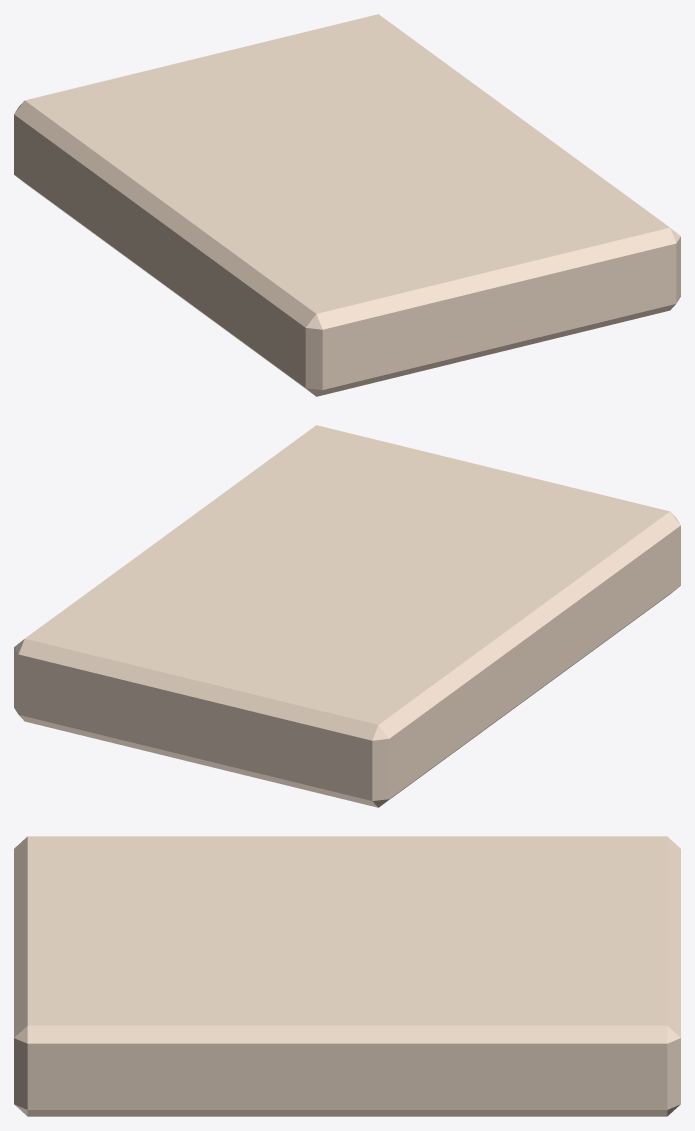
File: apocalypse-mattress-large.glb
The picture shows the model from 3 angles, top to bottom: view 1: azimuth 30°, elevation 25°; view 2: azimuth 150°, elevation 25°; view 3: azimuth 270°, elevation 25°; orthographic projection. The views are drawn at different scales.
Visible parts, largest first — view 1: mattress-large; view 2: mattress-large; view 3: mattress-large.
Boxes of the visible parts, left/top/right/bottom form: mattress-large: left=14, top=14, right=680, bottom=396; mattress-large: left=14, top=425, right=680, bottom=807; mattress-large: left=14, top=836, right=680, bottom=1116.
Size of the model in its own units: 1.42 by 0.3009 by 2.
